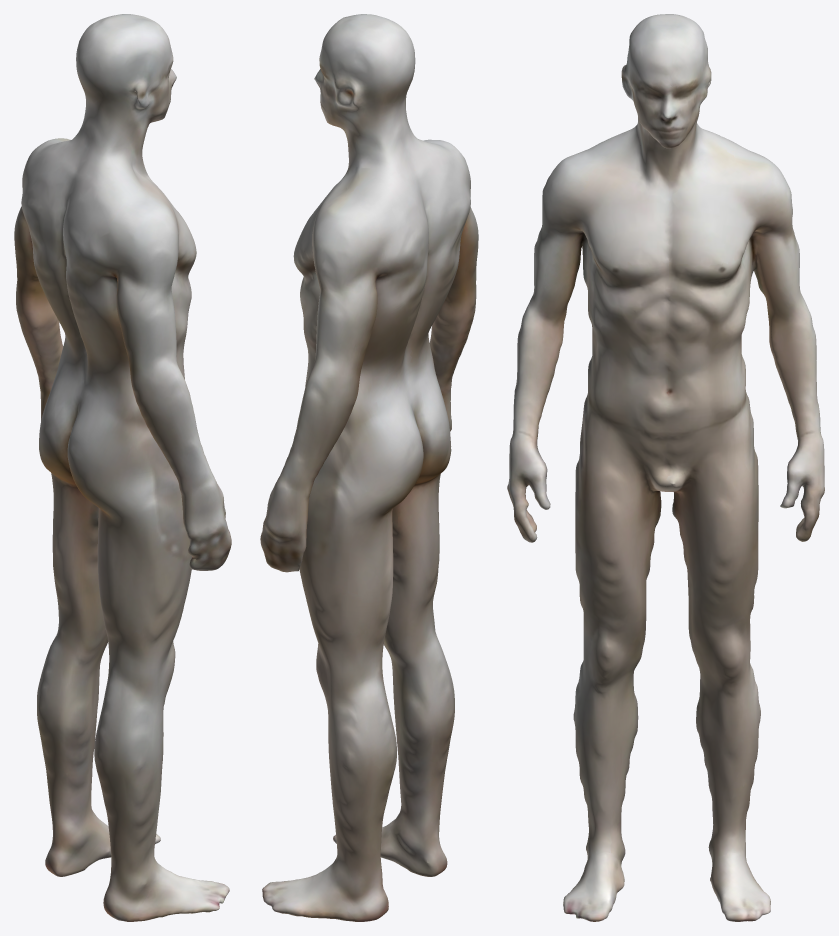
The model's file is male_optimized.glb.
The picture shows the model from 3 angles, left to right: view 1: azimuth 30°, elevation 25°; view 2: azimuth 150°, elevation 25°; view 3: azimuth 270°, elevation 25°; orthographic projection.
Parts seen in each view (by area): view 1: tripo_node_90164ffb-88ac-4ad8-8465-d11aa1807203; view 2: tripo_node_90164ffb-88ac-4ad8-8465-d11aa1807203; view 3: tripo_node_90164ffb-88ac-4ad8-8465-d11aa1807203.
Part boxes in pixels (x1,y1,x2,y2): tripo_node_90164ffb-88ac-4ad8-8465-d11aa1807203: [14, 14, 231, 921]; tripo_node_90164ffb-88ac-4ad8-8465-d11aa1807203: [260, 14, 478, 921]; tripo_node_90164ffb-88ac-4ad8-8465-d11aa1807203: [507, 14, 824, 921].
Size of the model in its own units: 0.1688 by 1 by 0.3305.
1 material, 1 textured.
